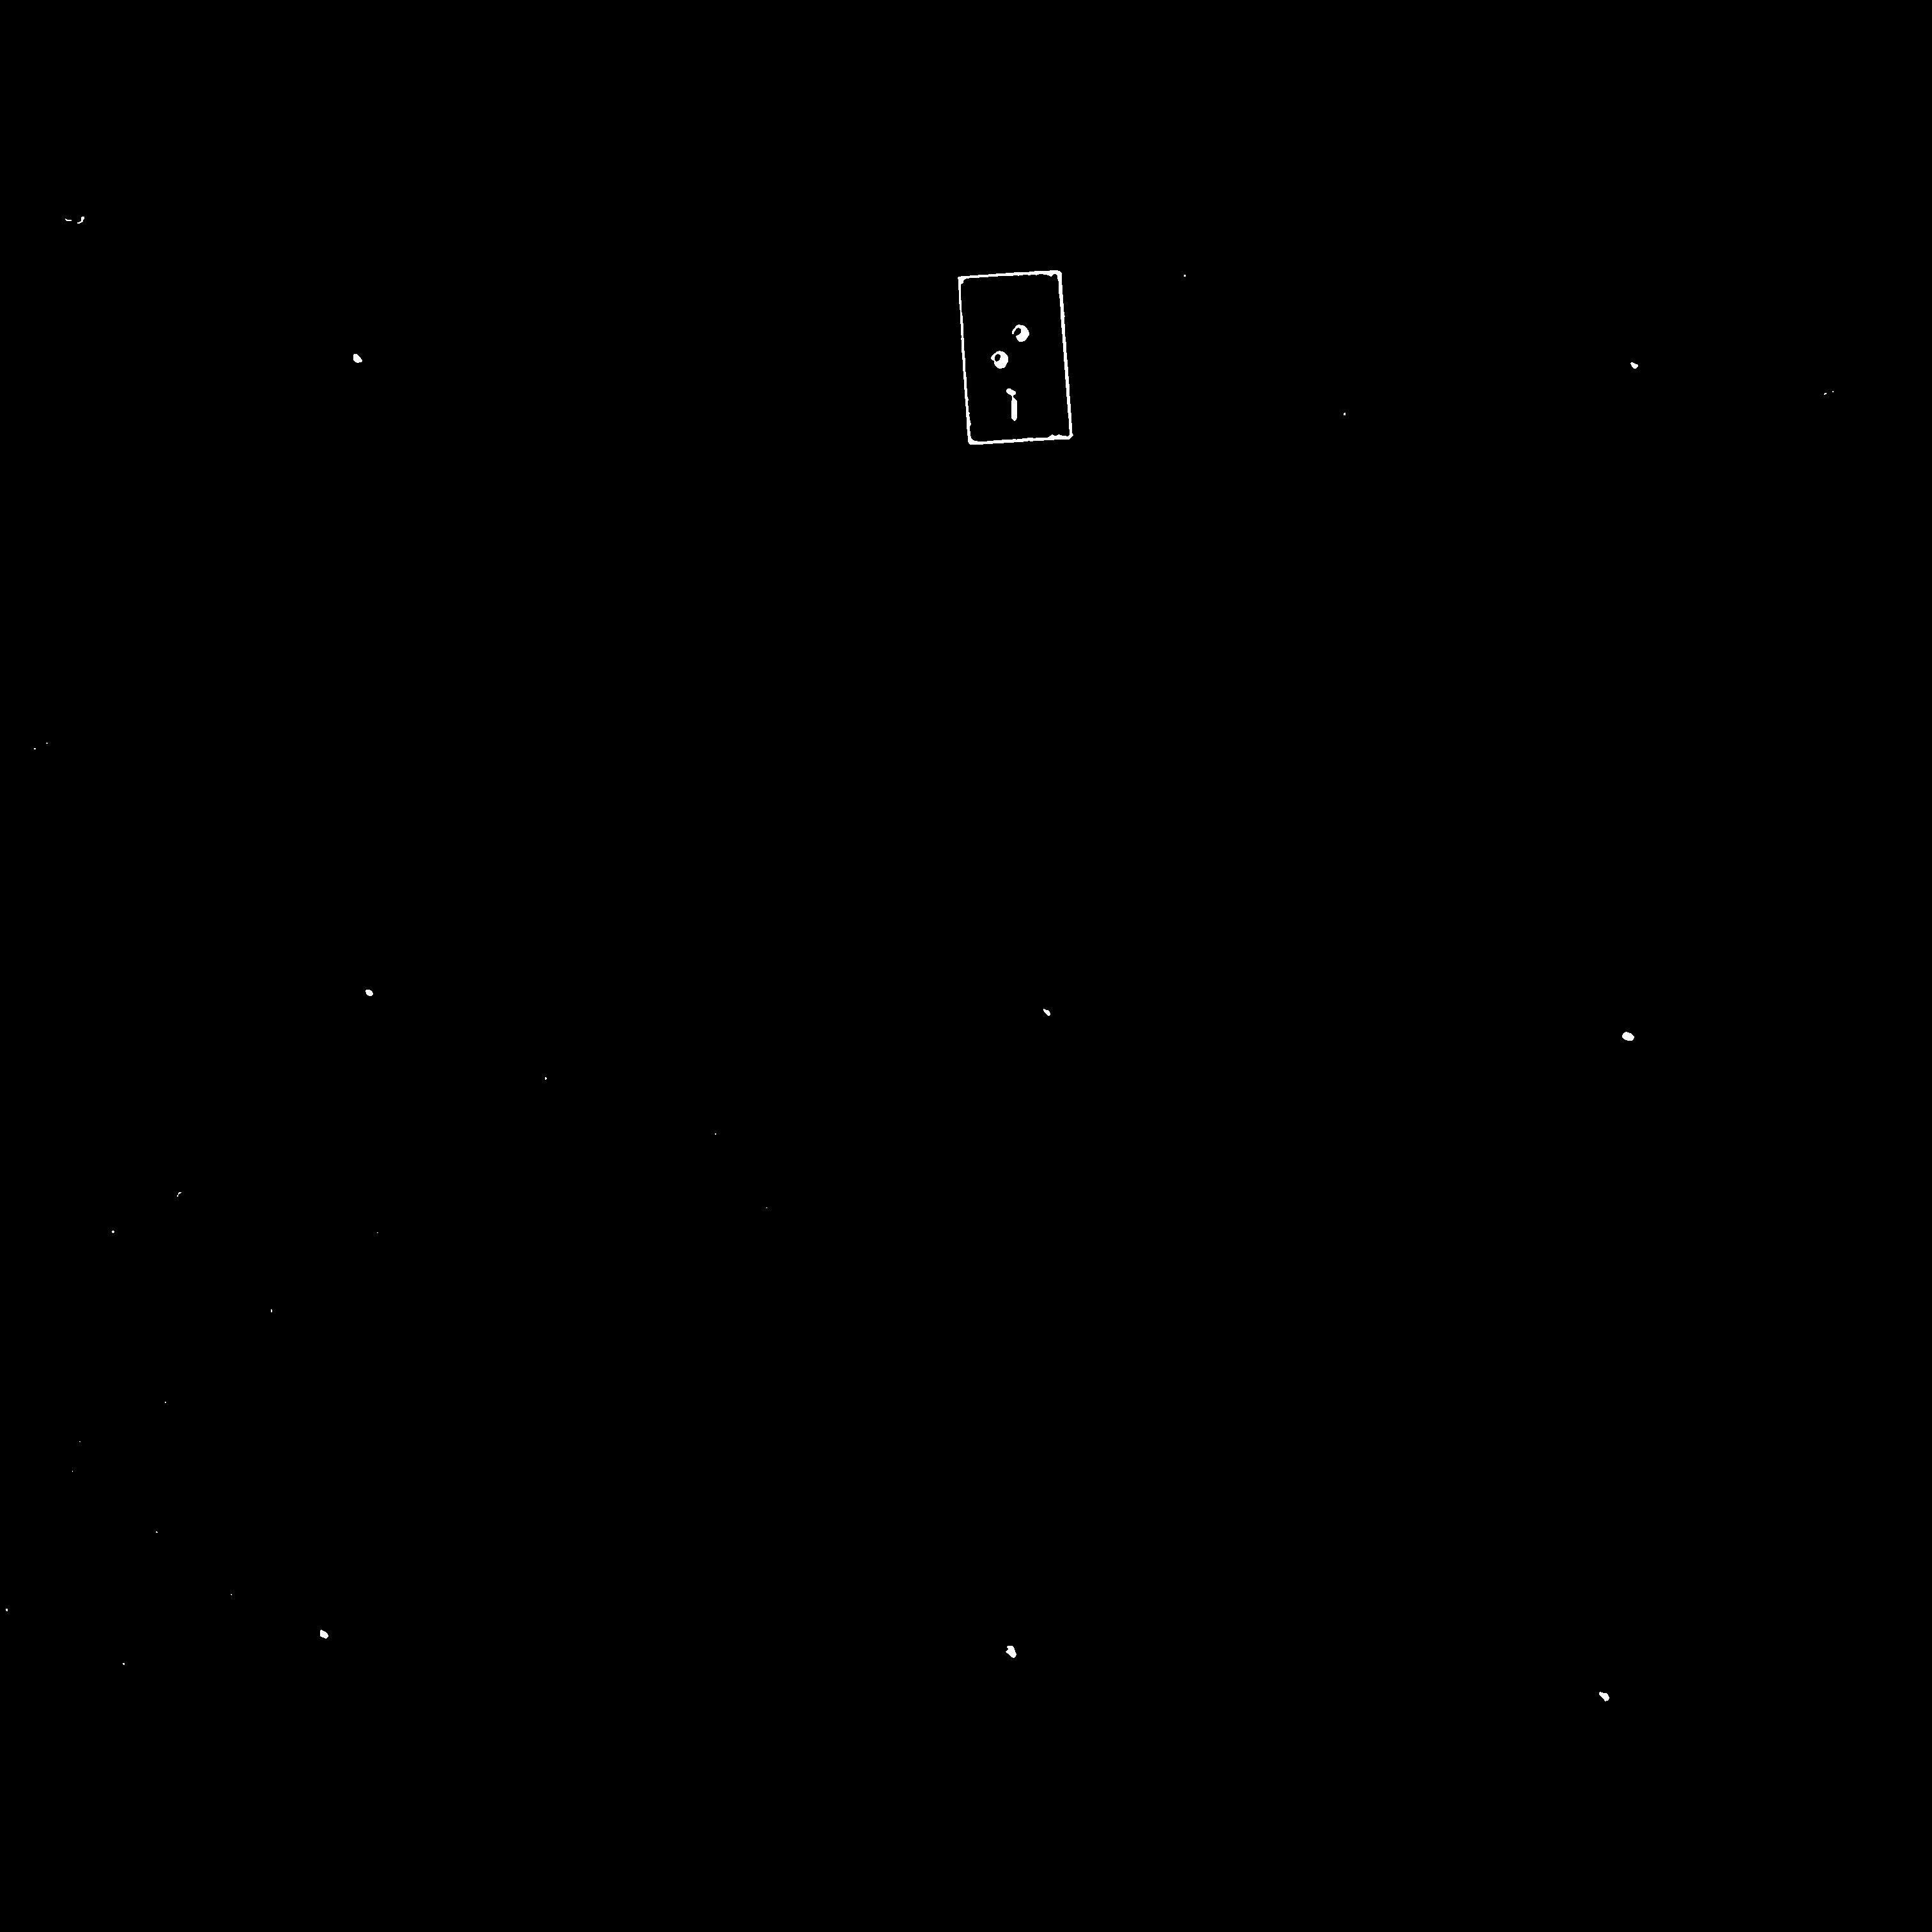i: (979, 312, 1038, 392)
